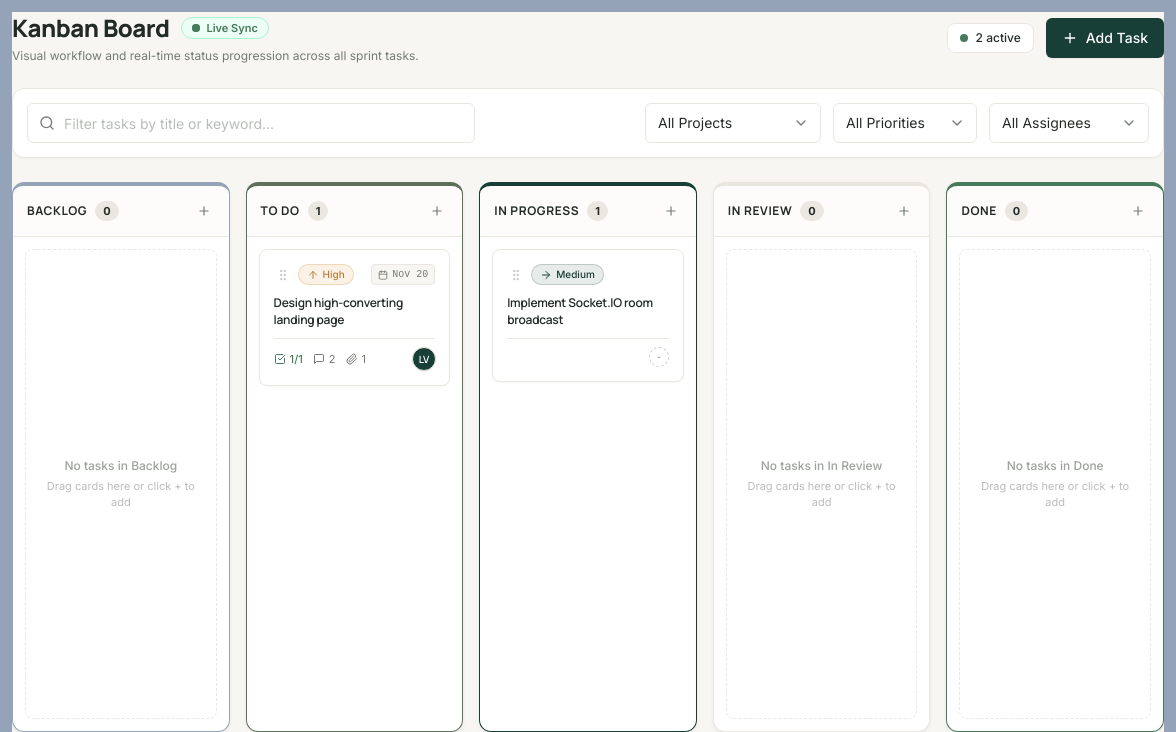
Scenario: Stage 07: Kanban Board & Real-Time Collaboration › filters tasks by search input
Type "Socket.IO" into the search field with placeholder "Filter tasks by title or keyword..." at (251, 123), box x1=27 y1=103 x2=475 y2=143
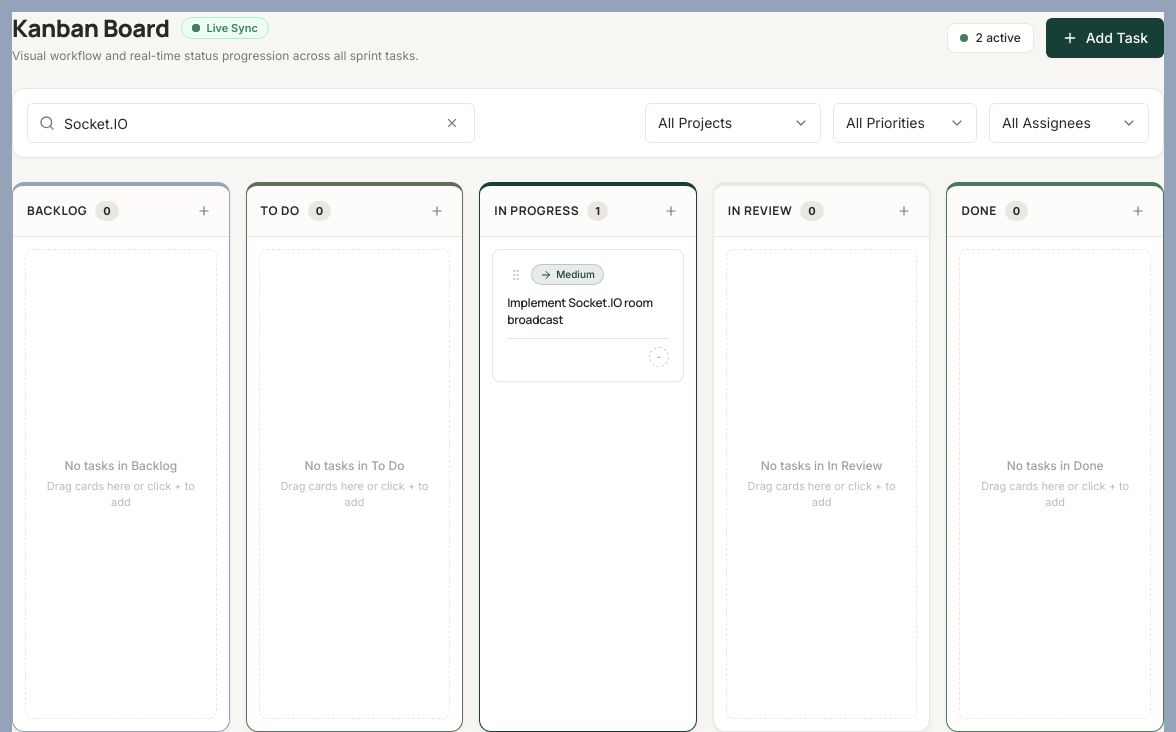
Expected: the heading "Implement Socket.IO room broadcast" is shown, x1=507 y1=295 x2=669 y2=328
Now the heading "Design high-converting landing page" is gone
